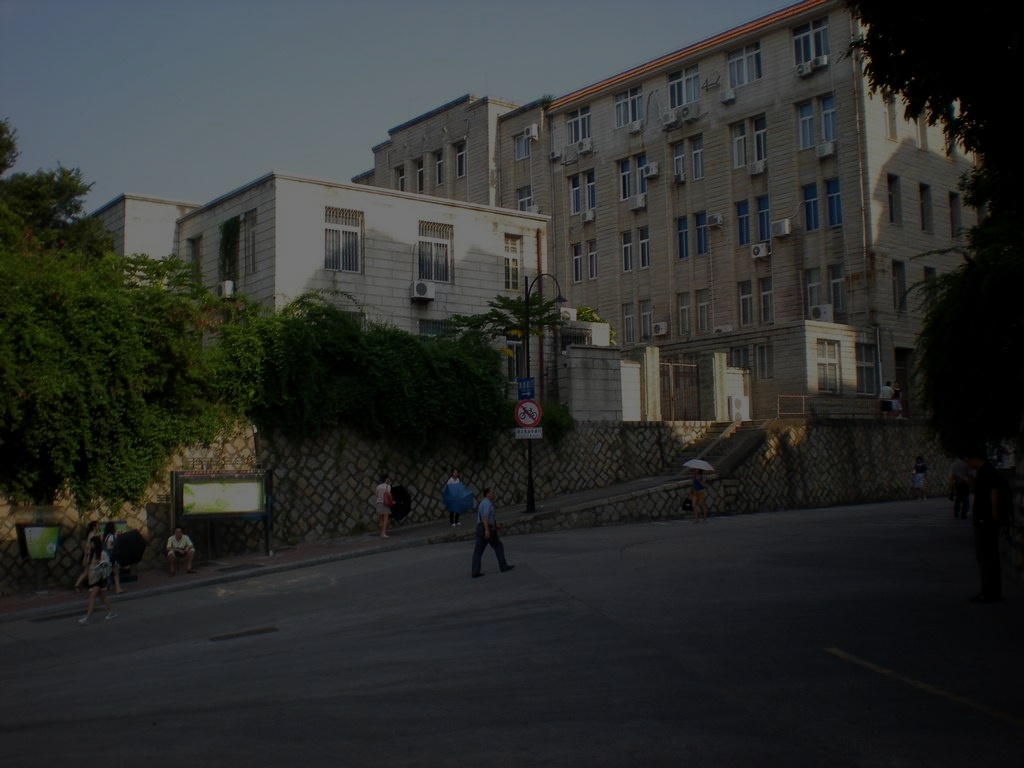Prohibitory Signs: (512, 398, 543, 428)
